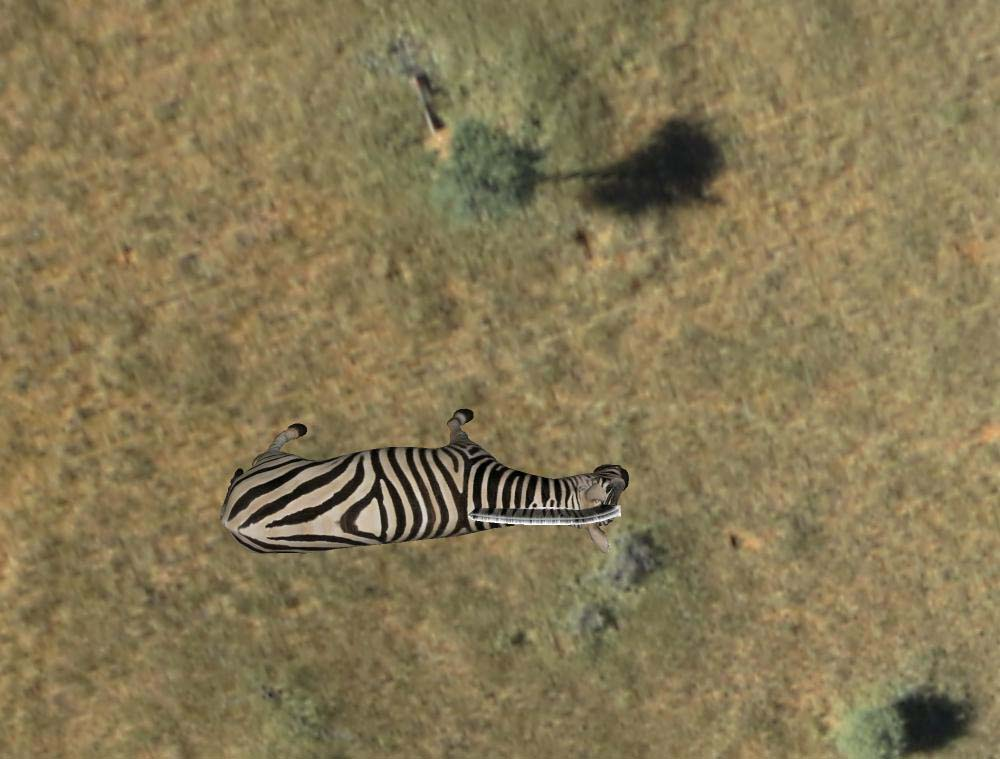zebra: (221, 402, 631, 559)
